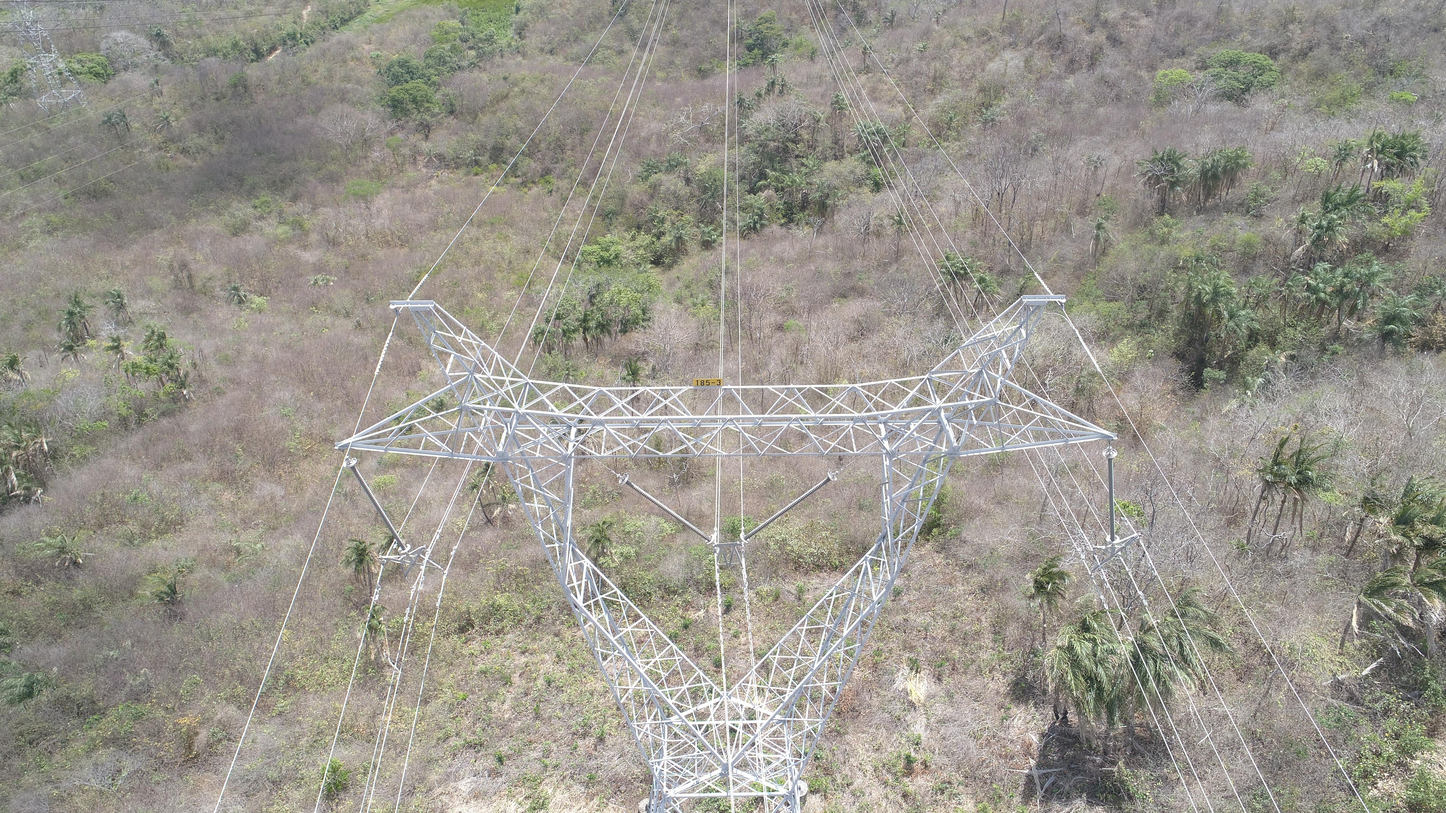power_tower: (333, 299, 1122, 812), (7, 2, 90, 115)
